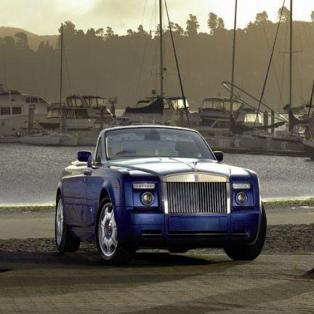Auto: (53, 124, 268, 268)
